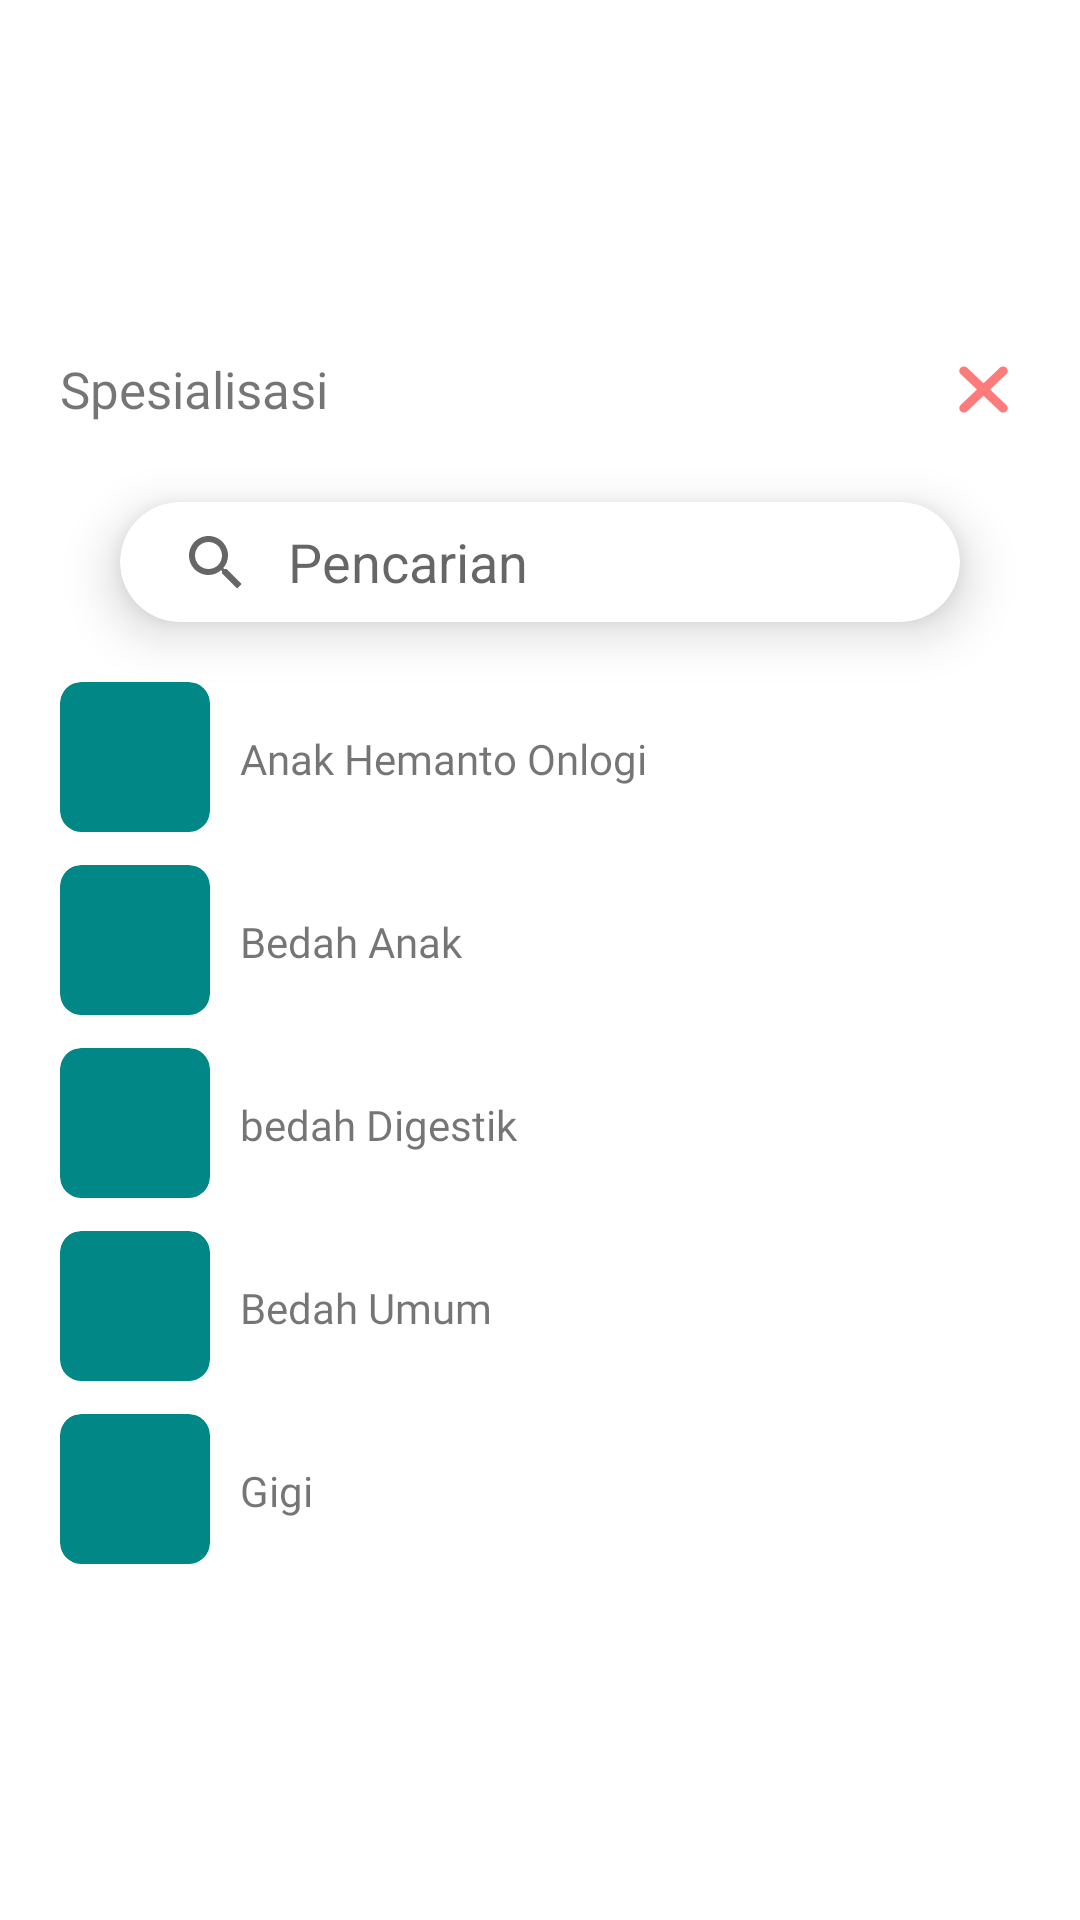

Point at icon controls on the screen. Image size 1080px×1920px, points as point (x, y).
multiply: point (983, 389)
